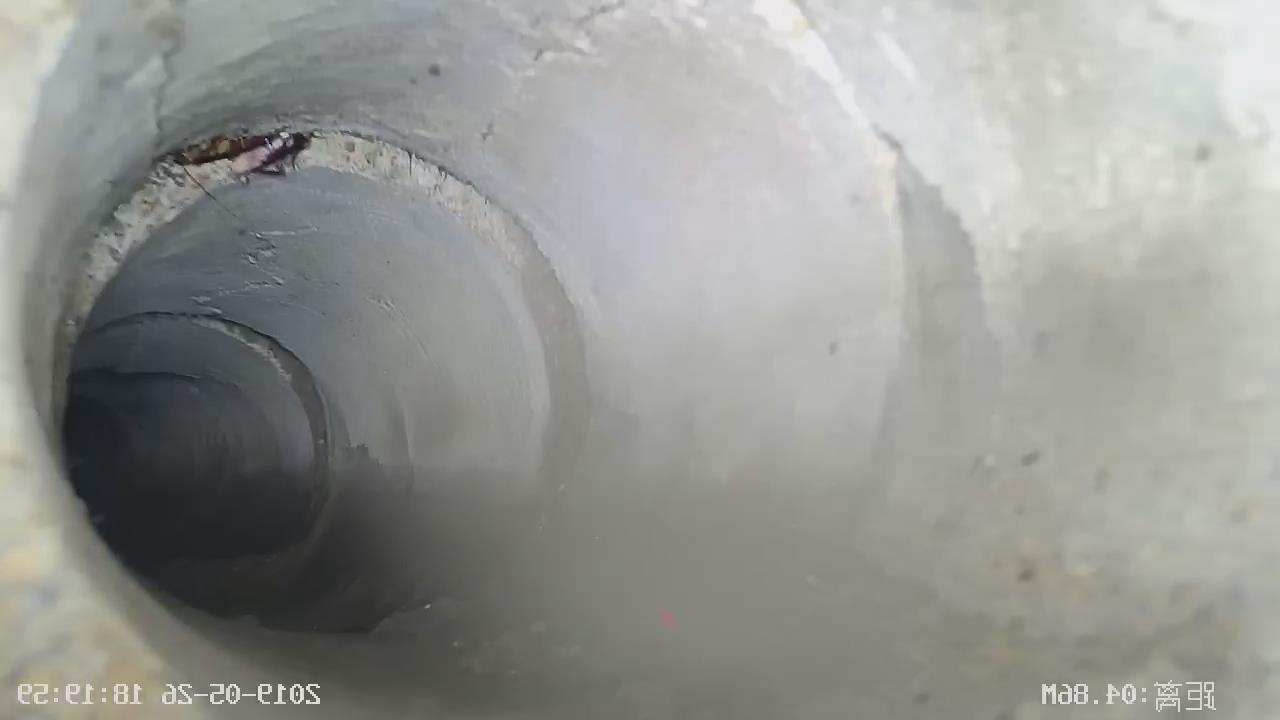CKTJ: (60, 128, 528, 359), (85, 312, 338, 539)
